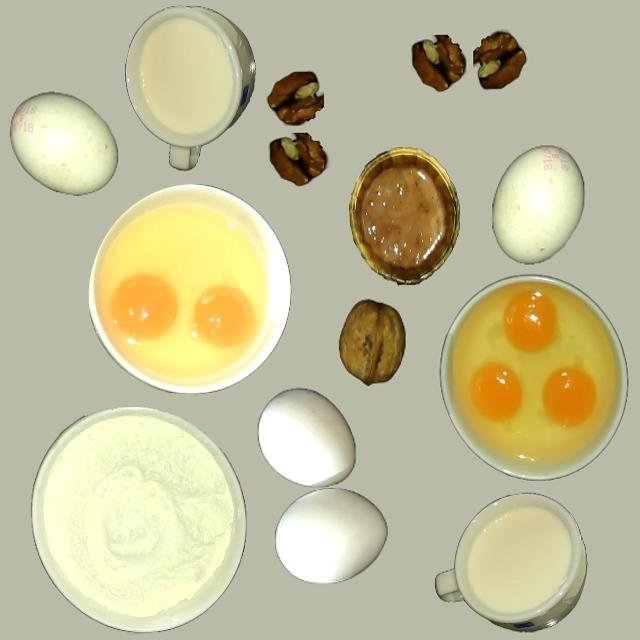Egg: (110, 273, 179, 342), (192, 286, 254, 348), (503, 290, 558, 352), (542, 368, 596, 428), (471, 364, 524, 422)
Flour: (31, 408, 241, 640)
Milk: (136, 14, 237, 139), (464, 505, 572, 614)
Walnut: (340, 301, 405, 385)
